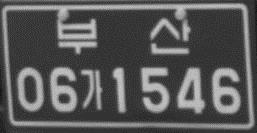0: (16, 65, 44, 112)
1: (110, 65, 128, 115)
4: (174, 65, 207, 117)
5: (138, 65, 171, 115)
6: (210, 65, 243, 115), (49, 65, 78, 113)
가: (79, 67, 104, 112)
부산_D: (54, 15, 193, 58)
